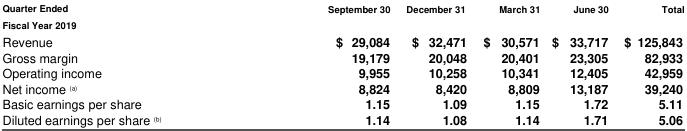table: (1, 0, 683, 127)
table column: (1, 0, 243, 127), (243, 0, 397, 127), (397, 0, 474, 127), (474, 0, 545, 127), (545, 0, 615, 127), (615, 0, 683, 127)
table column header: (1, 0, 683, 16)
table projected row header: (1, 16, 683, 31)
table row: (1, 31, 683, 49), (1, 0, 683, 16), (1, 64, 683, 80), (1, 95, 683, 111), (1, 111, 683, 127), (1, 16, 683, 31), (1, 49, 683, 64), (1, 80, 683, 95)
